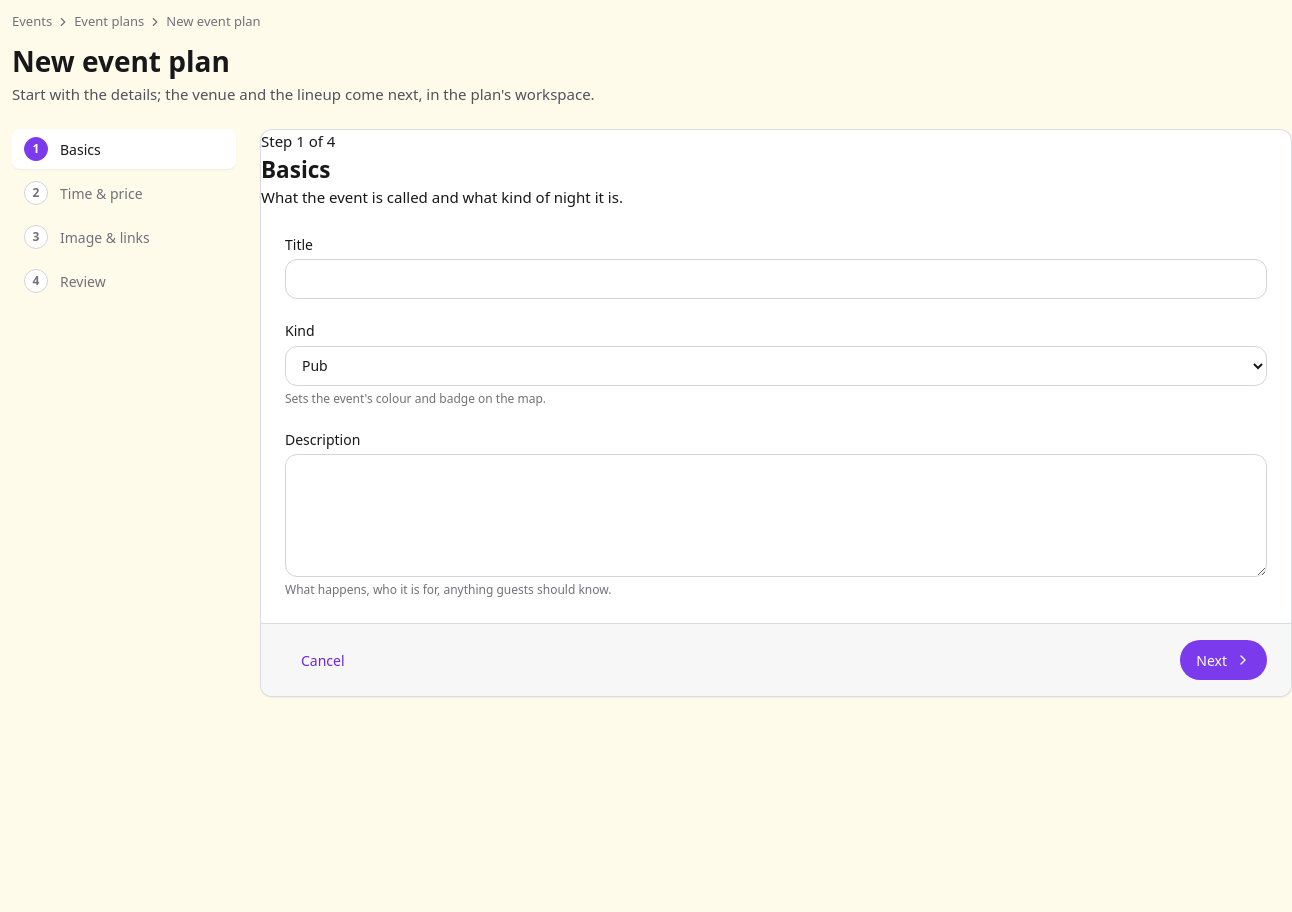
Scenario: NewEventPlanPage › checks the times and the price on their step
Type "Summer Opening" into the field labelled "Title" at [776, 279], box [285,259,1267,299]
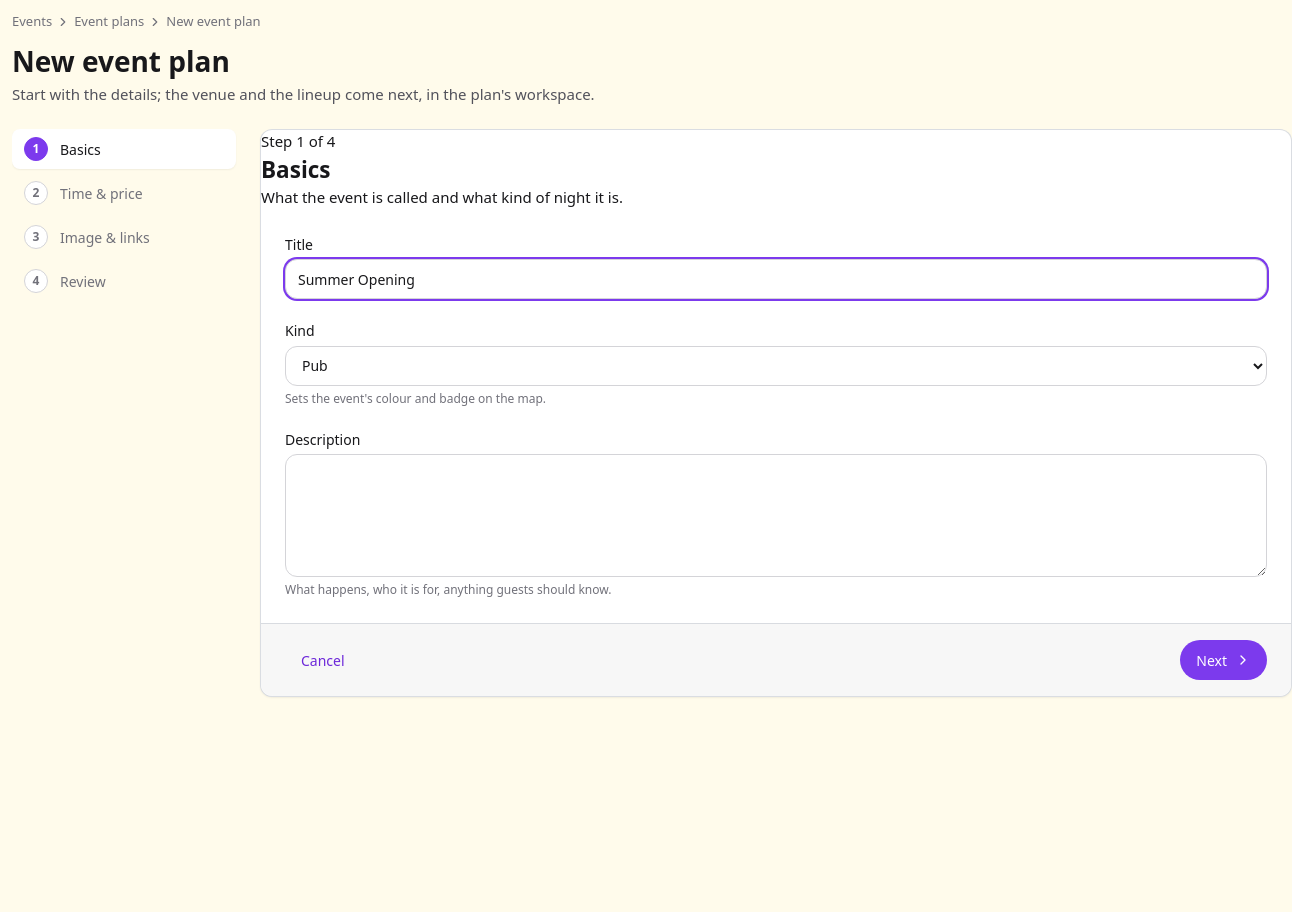
Click the button "Next" at [1224, 660], box [1180,640,1267,680]
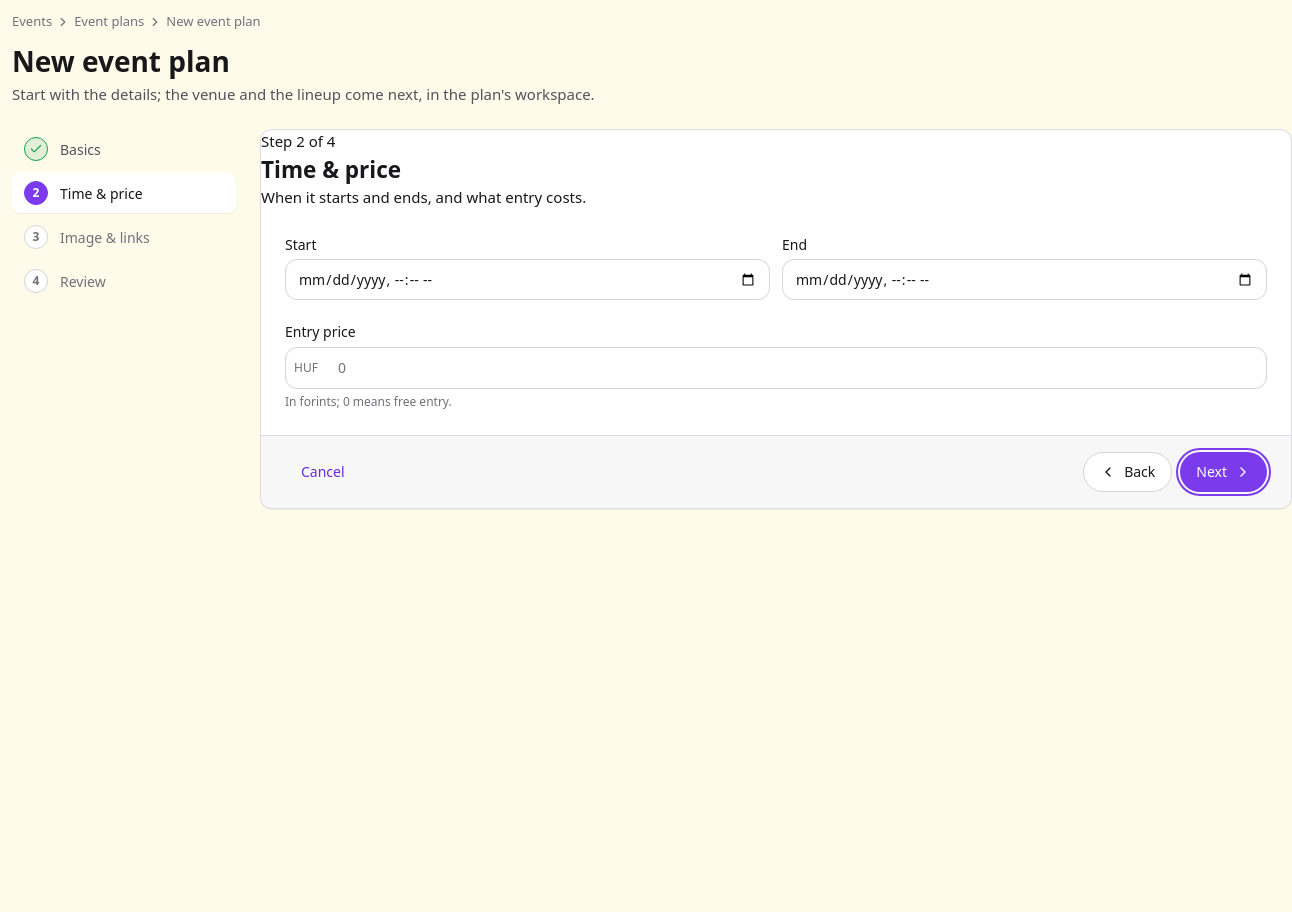
Type "12.5" into the field labelled "Entry price" at [796, 368], box [326,348,1266,388]
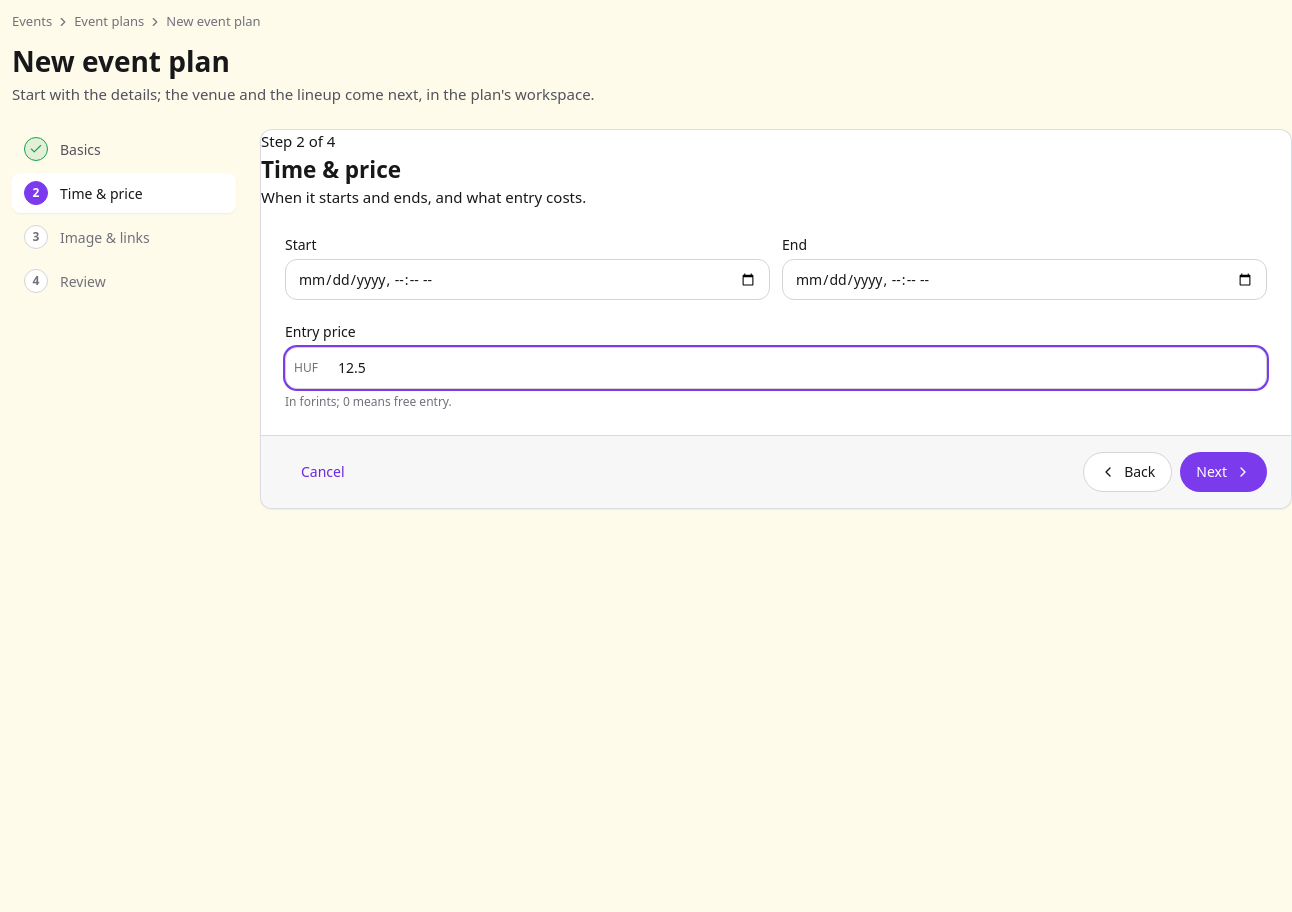
Click the button "Next" at [1224, 472], box [1180,452,1267,492]
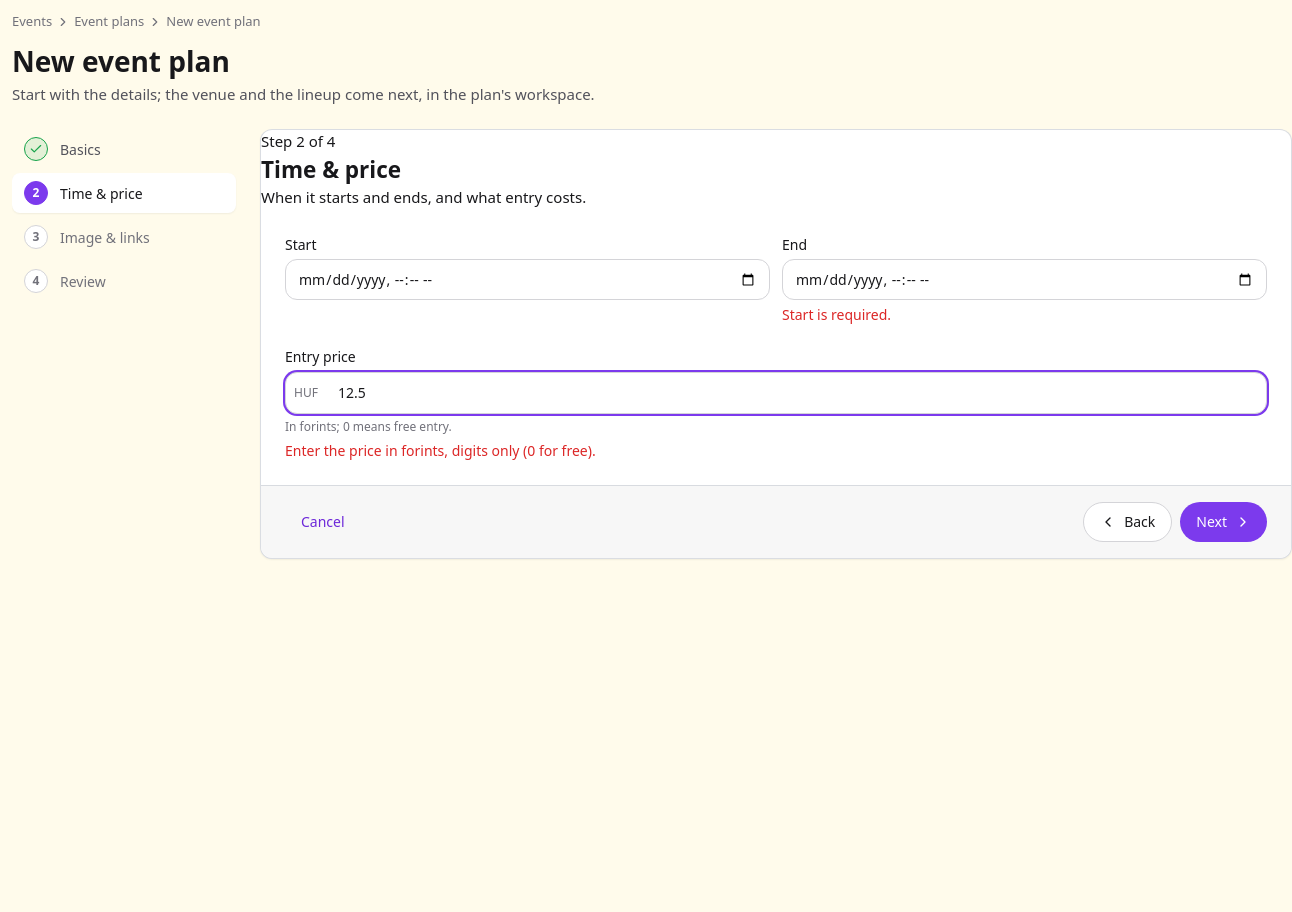
Expected: the text "Start is required." is shown, [782,305,891,324]
Expected: the text "Enter the price in forints, digits only (0 for free)." is shown, [285,441,596,460]
